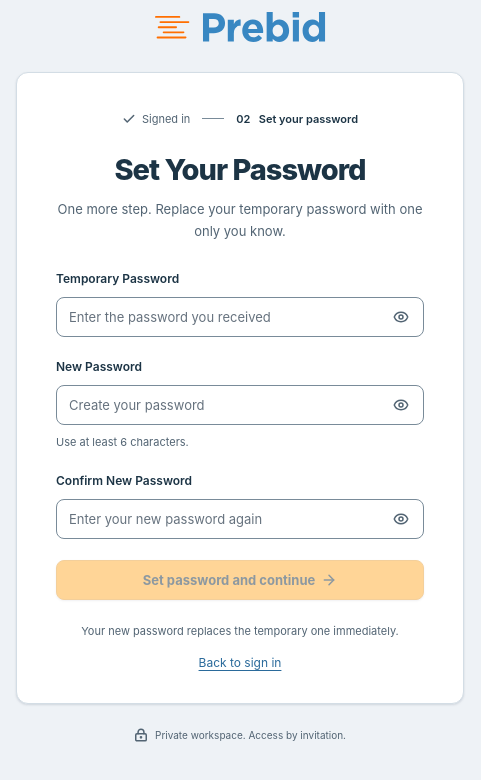
keeps a rejected password write correctable without claiming that it succeeded
In the password field labelled "Temporary Password": (240, 318) [56,298,424,338], type "TemporaryPassword1!"
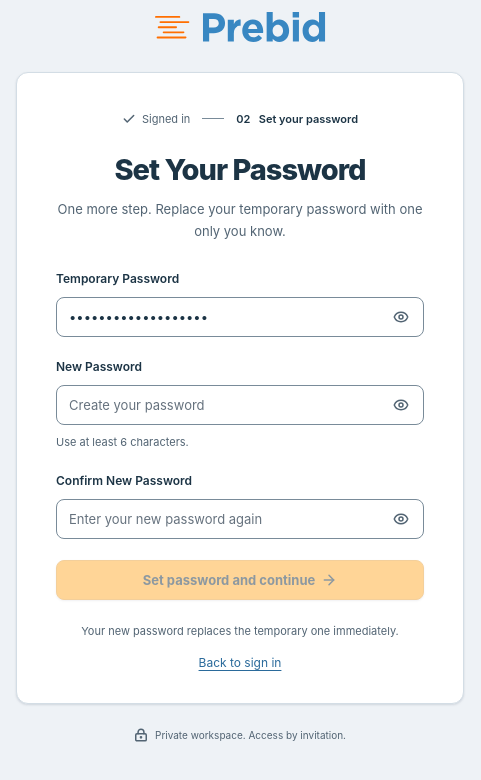
In the password field labelled "New Password": (240, 406) [56,386,424,426], type "simple"
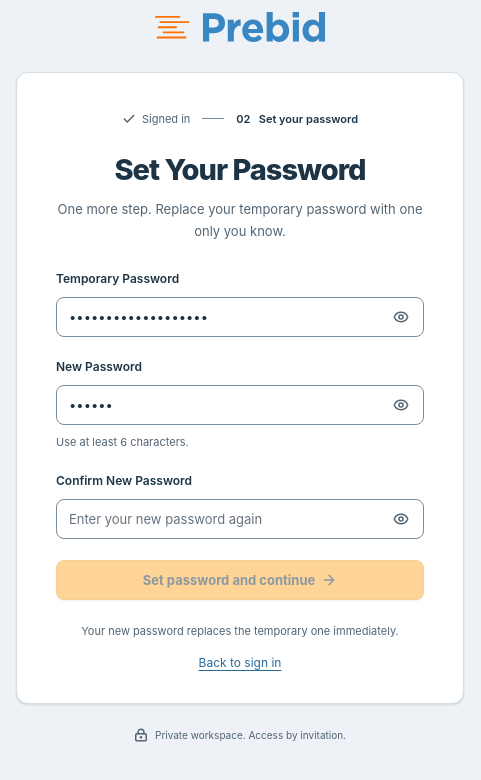
In the password field labelled "Confirm New Password": (240, 519) [56,499,424,539], type "simple"
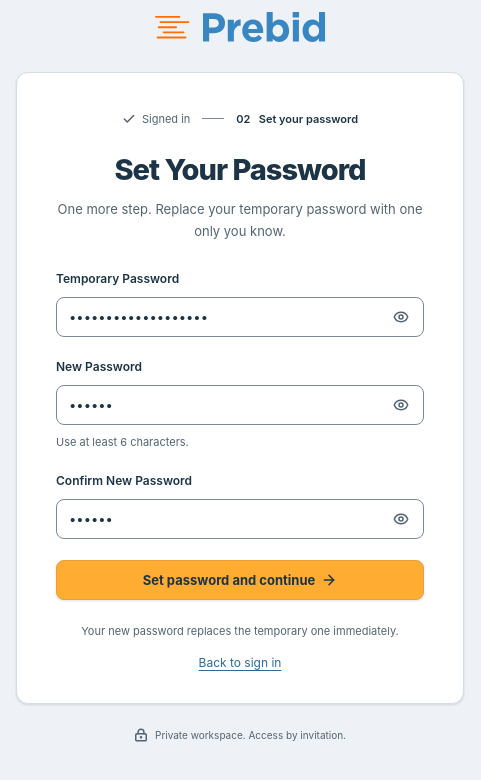
Submit the form named "Set password and continue", box [56,270,424,600]
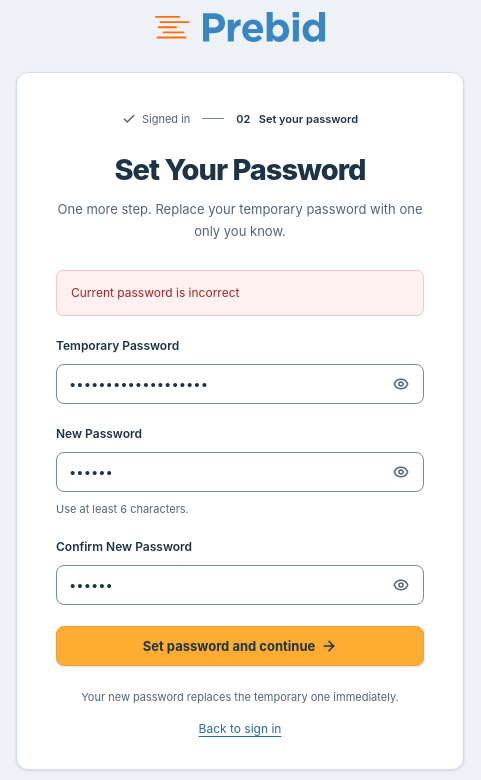
Now the button "Set password and continue" is enabled, box [56,626,424,666]
Now the text "Current password is incorrect" is shown, box [56,270,424,316]
